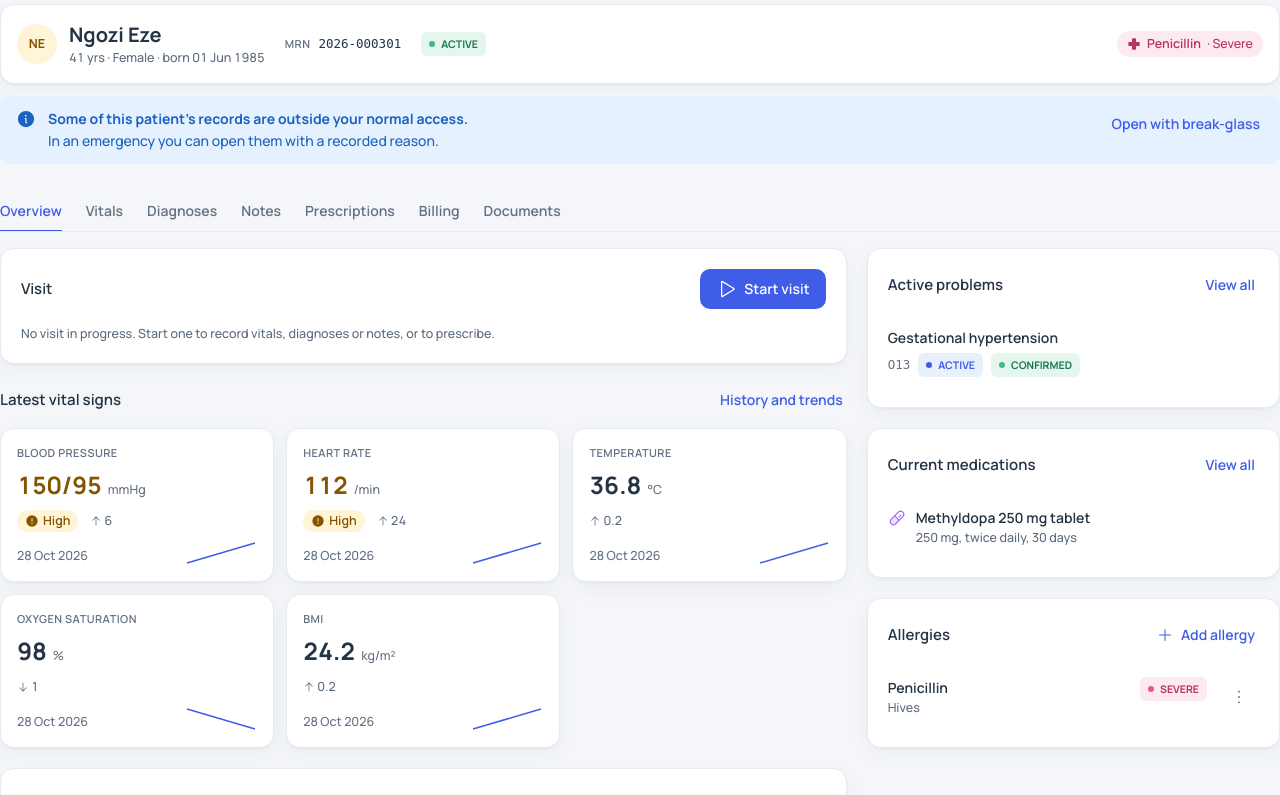
diagnoses › changes a diagnosis's status; a refuted one leaves the problem list
Click the tab "Diagnoses" at coordinates (182, 212), box [147, 192, 217, 232]
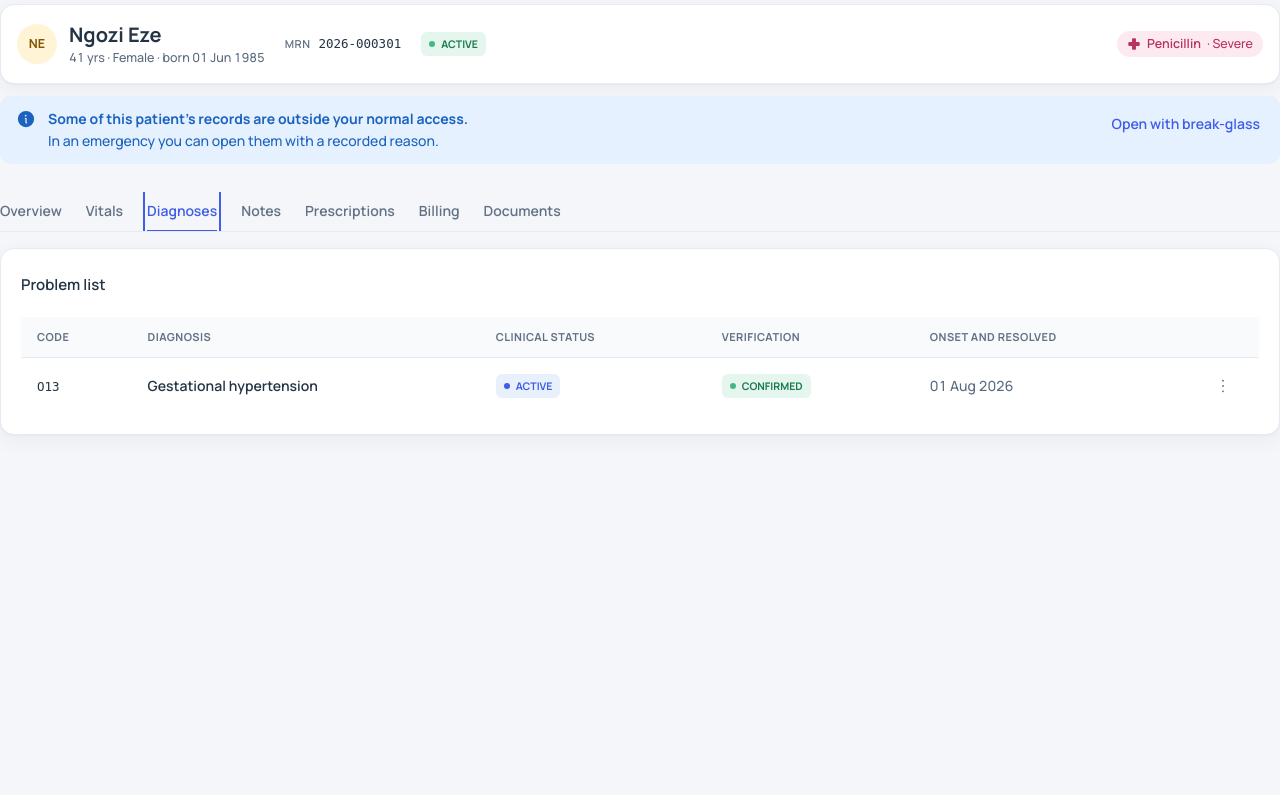
Click the button named "Actions for Gestational hypertension" at coordinates (1223, 386), box [1203, 366, 1243, 406]
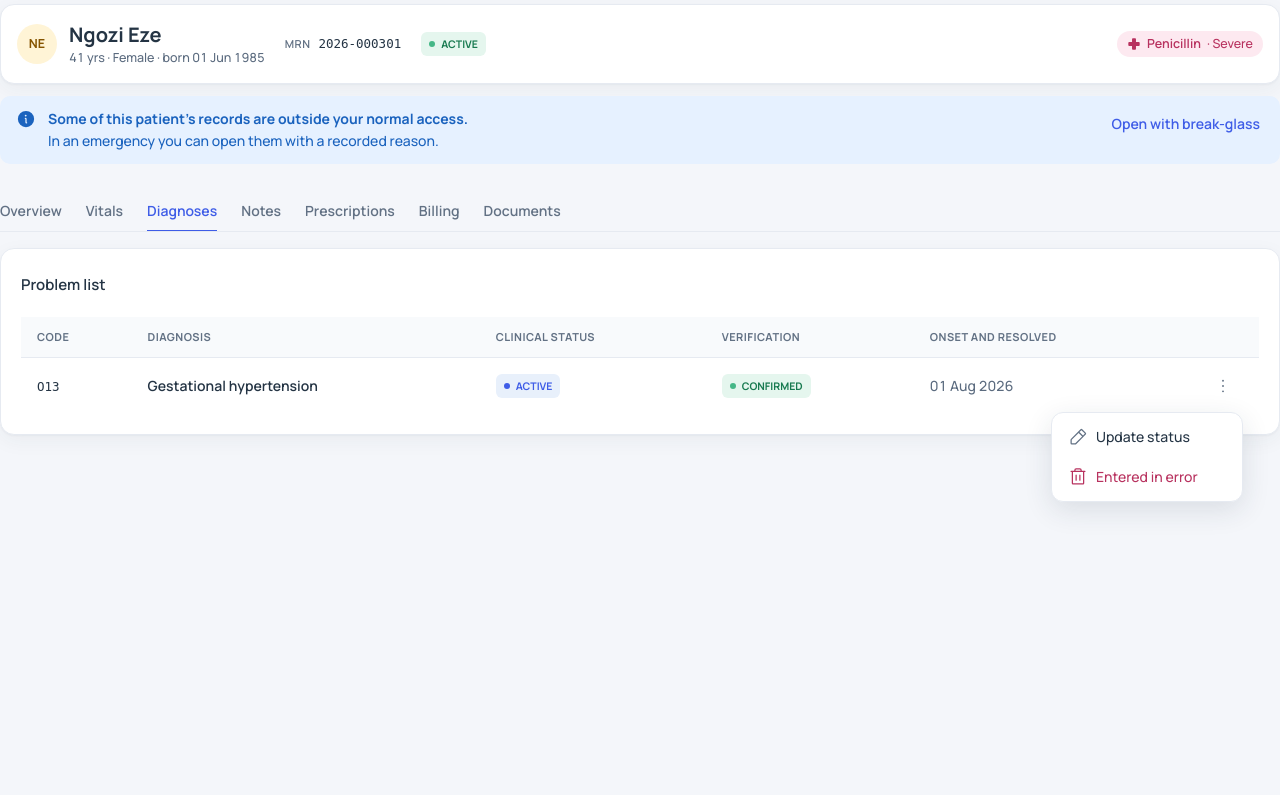
Click the menu item "Update status" at coordinates (1129, 437), box [1068, 427, 1190, 447]
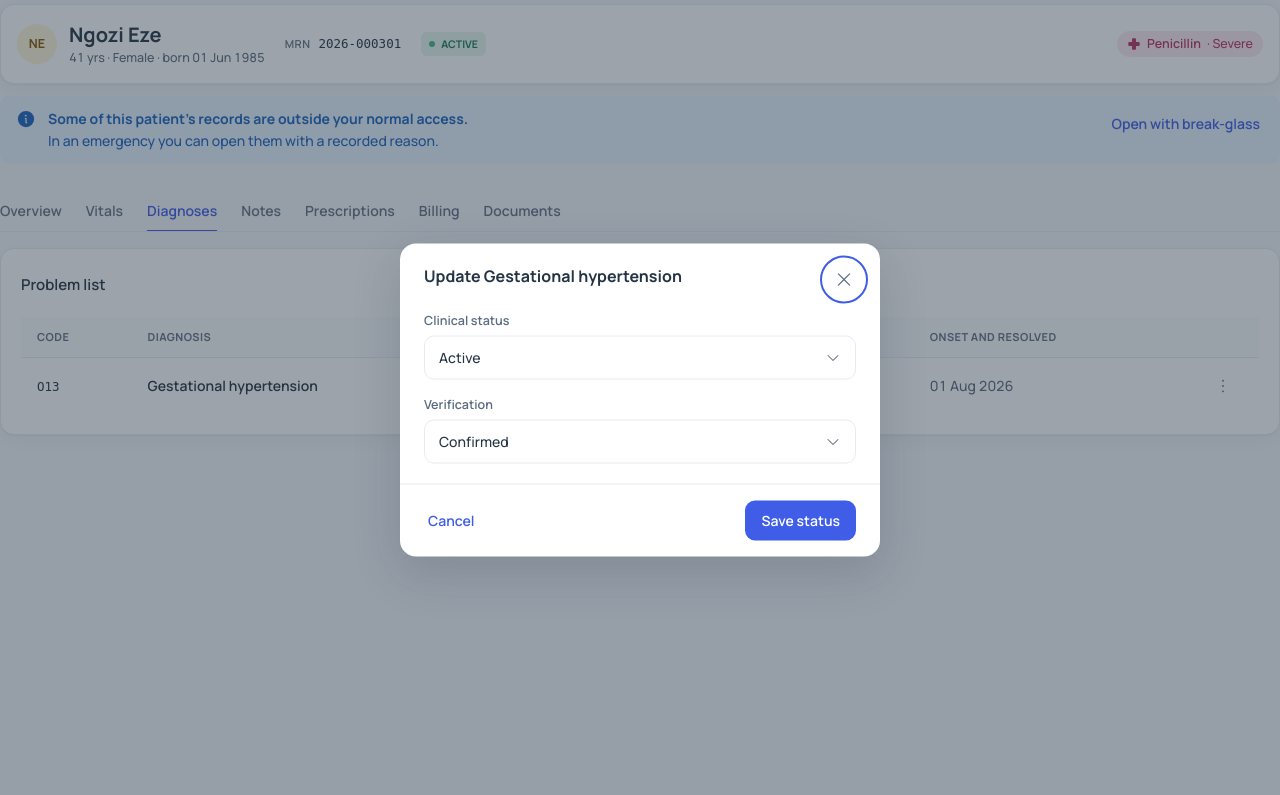
Click the dropdown named "Verification" at coordinates (474, 441), box [424, 420, 856, 464]
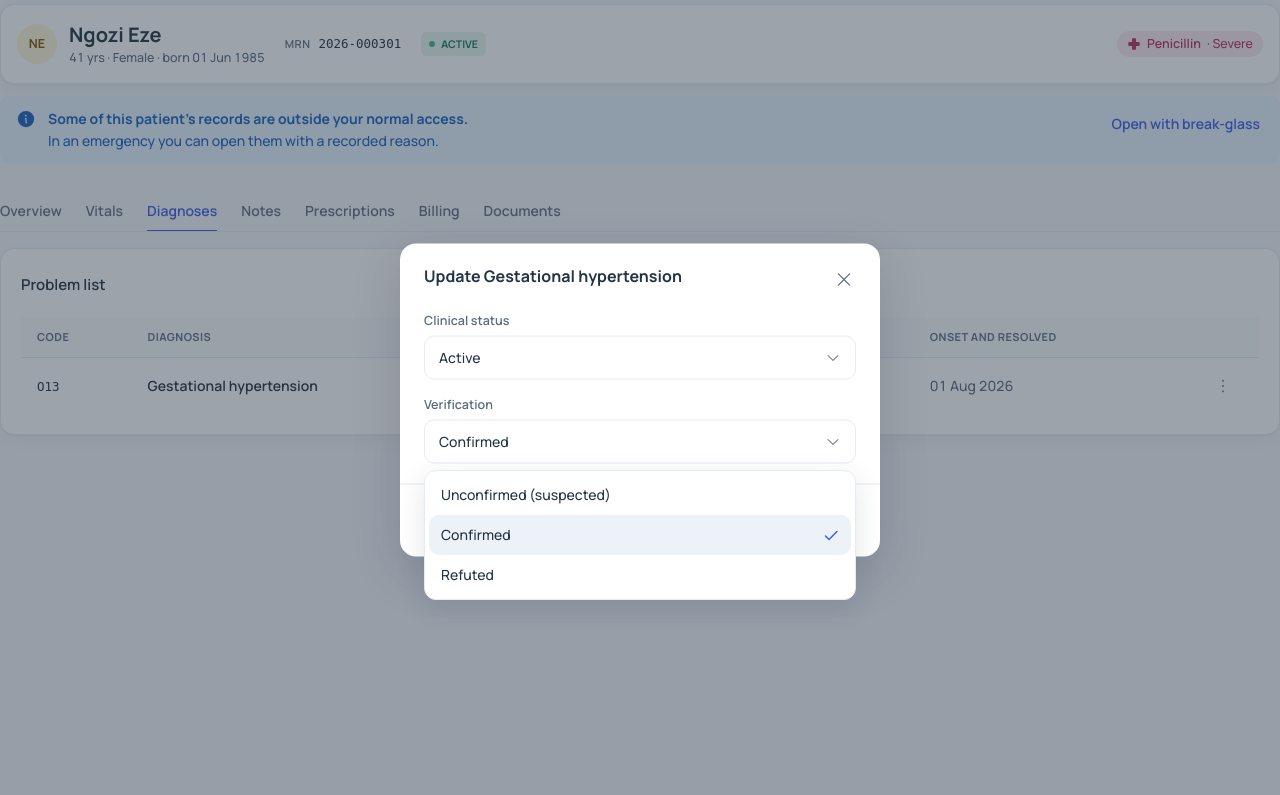
Click the option "Refuted" at coordinates (467, 574), box [441, 565, 494, 584]
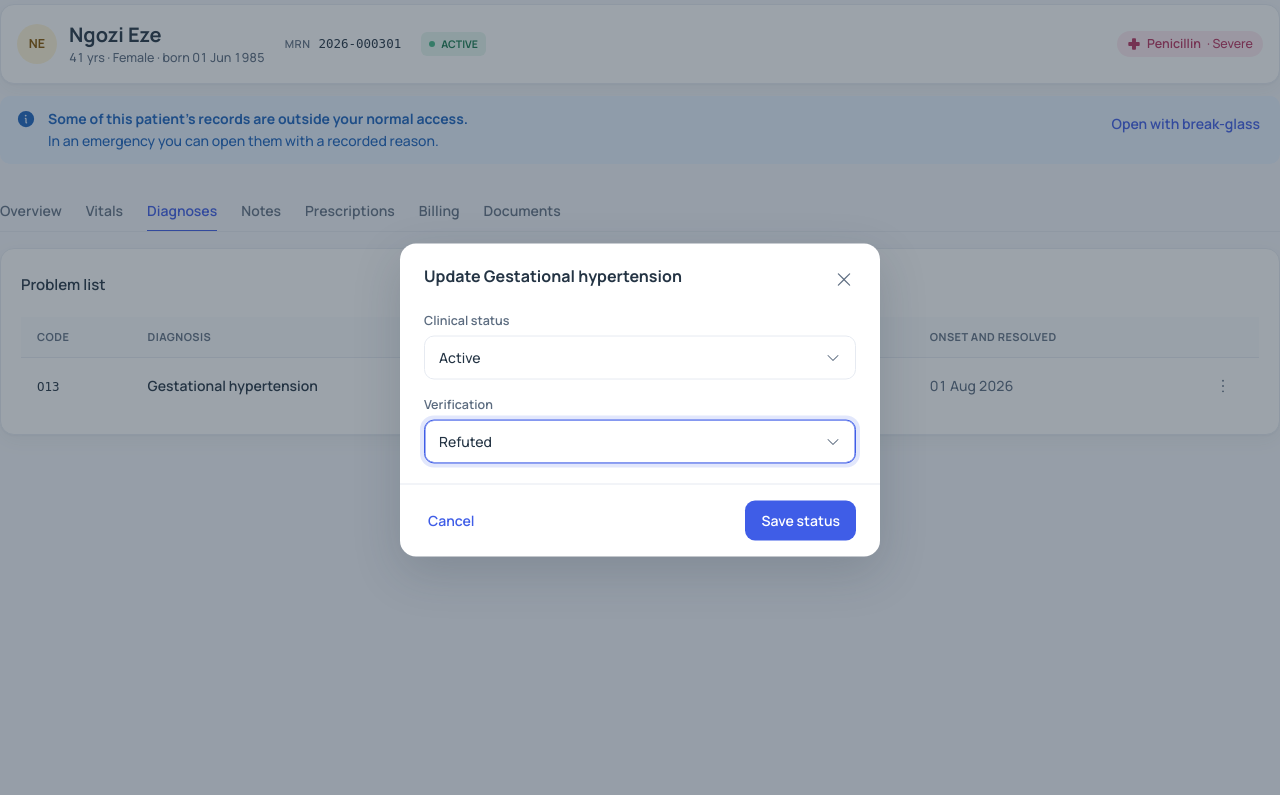
Click the button "Save status" at coordinates (801, 520), box [746, 500, 856, 540]
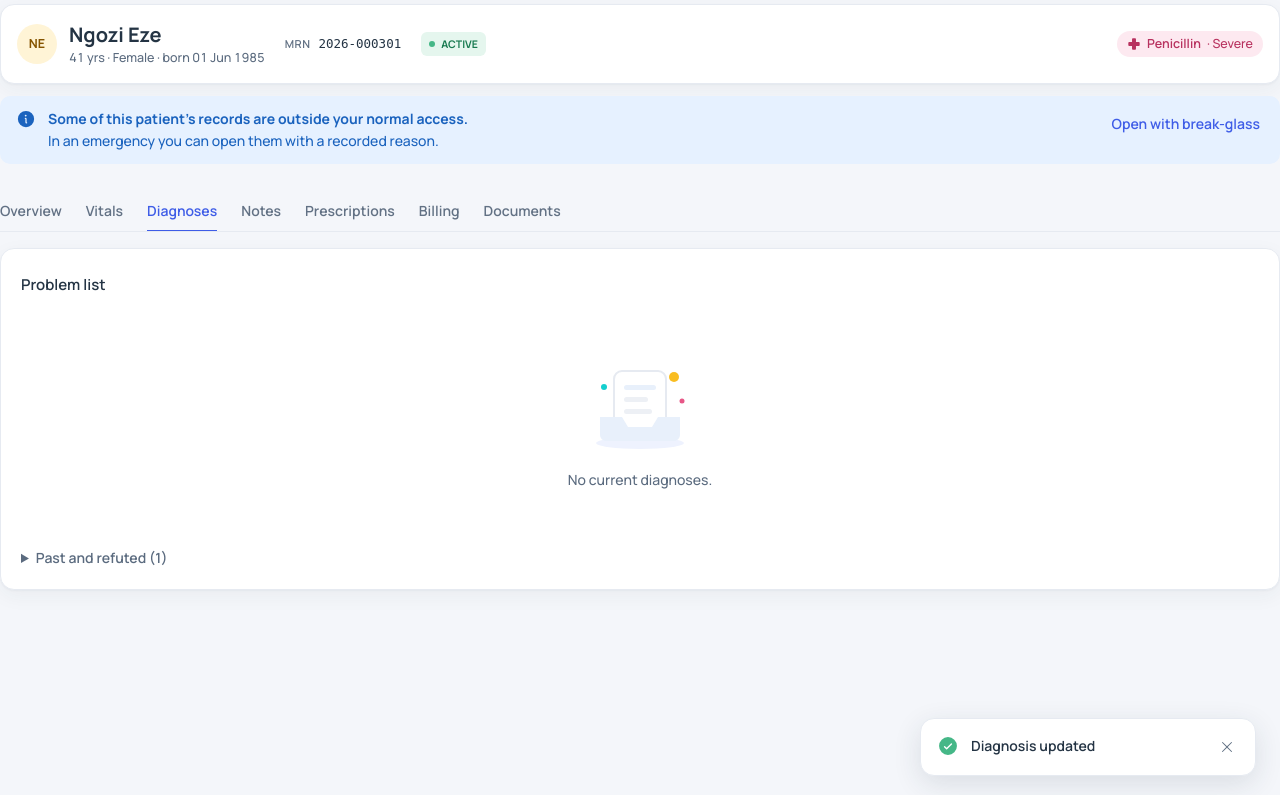
Check: the heading "Update Gestational" is gone
Check: the heading with test id "past-diagnoses" reads "Past and refuted (1)", box [36, 548, 167, 567]
